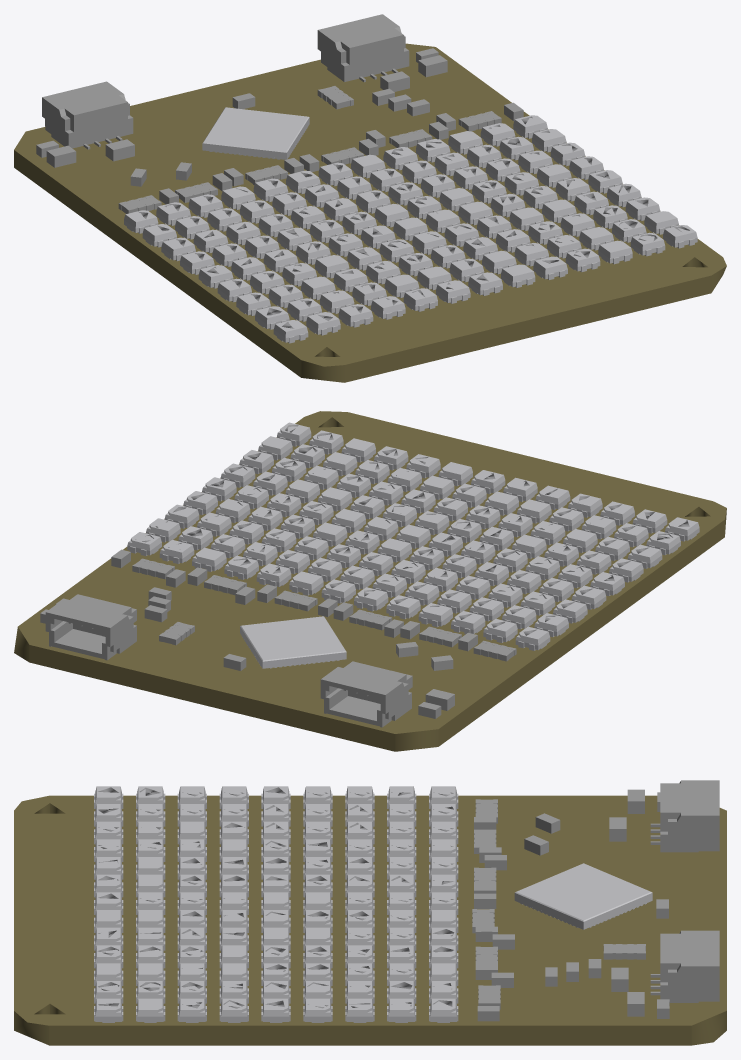
File: ada-5201.glb
The picture shows the model from 3 angles, top to bottom: view 1: azimuth 30°, elevation 25°; view 2: azimuth 150°, elevation 25°; view 3: azimuth 270°, elevation 25°; orthographic projection. The views are drawn at different scales.
Visible parts, largest first — view 1: 0.5833333333333334_0.5833333333333334_0.5833333333333334_0.8, 0.16666666666666666_0.16666666666666666_0.08333333333333333_, 0.3333333333333333_0.3333333333333333_0.3333333333333333_0; view 2: 0.5833333333333334_0.5833333333333334_0.5833333333333334_0.8, 0.16666666666666666_0.16666666666666666_0.08333333333333333_, 0.3333333333333333_0.3333333333333333_0.3333333333333333_0; view 3: 0.16666666666666666_0.16666666666666666_0.08333333333333333_, 0.5833333333333334_0.5833333333333334_0.5833333333333334_0.8, 0.3333333333333333_0.3333333333333333_0.3333333333333333_0.
Boxes of the visible parts, box(x1,y1,x2,y2) form: 0.5833333333333334_0.5833333333333334_0.5833333333333334_0.8: box(124, 107, 697, 343); 0.16666666666666666_0.16666666666666666_0.08333333333333333_: box(14, 43, 726, 382); 0.3333333333333333_0.3333333333333333_0.3333333333333333_0: box(36, 14, 523, 213); 0.5833333333333334_0.5833333333333334_0.5833333333333334_0.8: box(127, 422, 699, 668); 0.16666666666666666_0.16666666666666666_0.08333333333333333_: box(14, 411, 726, 751); 0.3333333333333333_0.3333333333333333_0.3333333333333333_0: box(40, 549, 516, 727); 0.16666666666666666_0.16666666666666666_0.08333333333333333_: box(14, 795, 726, 1045); 0.5833333333333334_0.5833333333333334_0.5833333333333334_0.8: box(94, 786, 652, 1022); 0.3333333333333333_0.3333333333333333_0.3333333333333333_0: box(472, 780, 719, 1021).
Size of the model in its own units: 3.9 by 0.4531 by 5.11.
